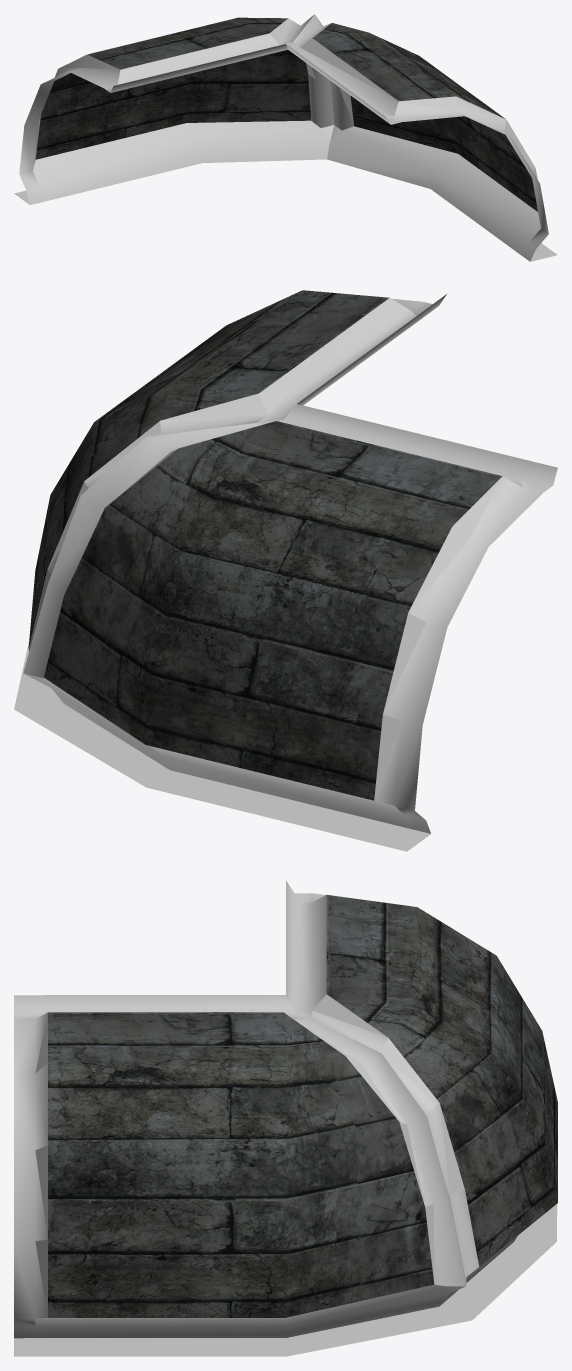
Rendered from corner_concave_round_flat.dae.
3 views of the same model, one above another, from view 1: azimuth 30°, elevation 25°; view 2: azimuth 150°, elevation 25°; view 3: azimuth 270°, elevation 25° (orthographic). The views are drawn at different scales.
Parts seen in each view (by area): view 1: polySurface2, polySurface10; view 2: polySurface10, polySurface2; view 3: polySurface10, polySurface2.
Boxes of the visible parts, left/top/right/bottom form: polySurface2: left=14, top=14, right=557, bottom=261; polySurface10: left=35, top=17, right=537, bottom=211; polySurface10: left=28, top=290, right=502, bottom=800; polySurface2: left=14, top=294, right=557, bottom=851; polySurface10: left=48, top=895, right=557, bottom=1317; polySurface2: left=14, top=881, right=557, bottom=1356.
Bounding box in the file's own units: 4 × 2 × 4.
